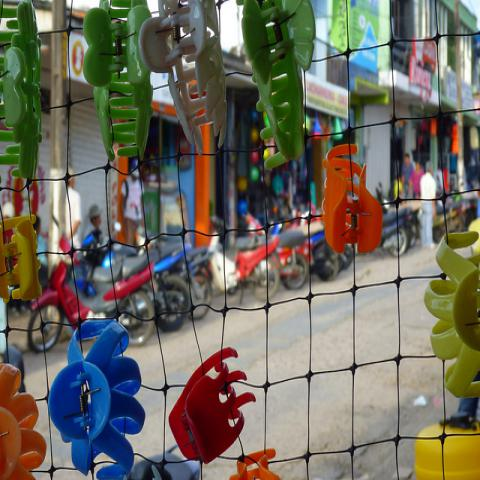motorcycle: (28, 215, 157, 351), (80, 243, 212, 319), (102, 244, 200, 330), (208, 214, 283, 300), (238, 204, 310, 292), (287, 219, 341, 282), (382, 206, 409, 262)
